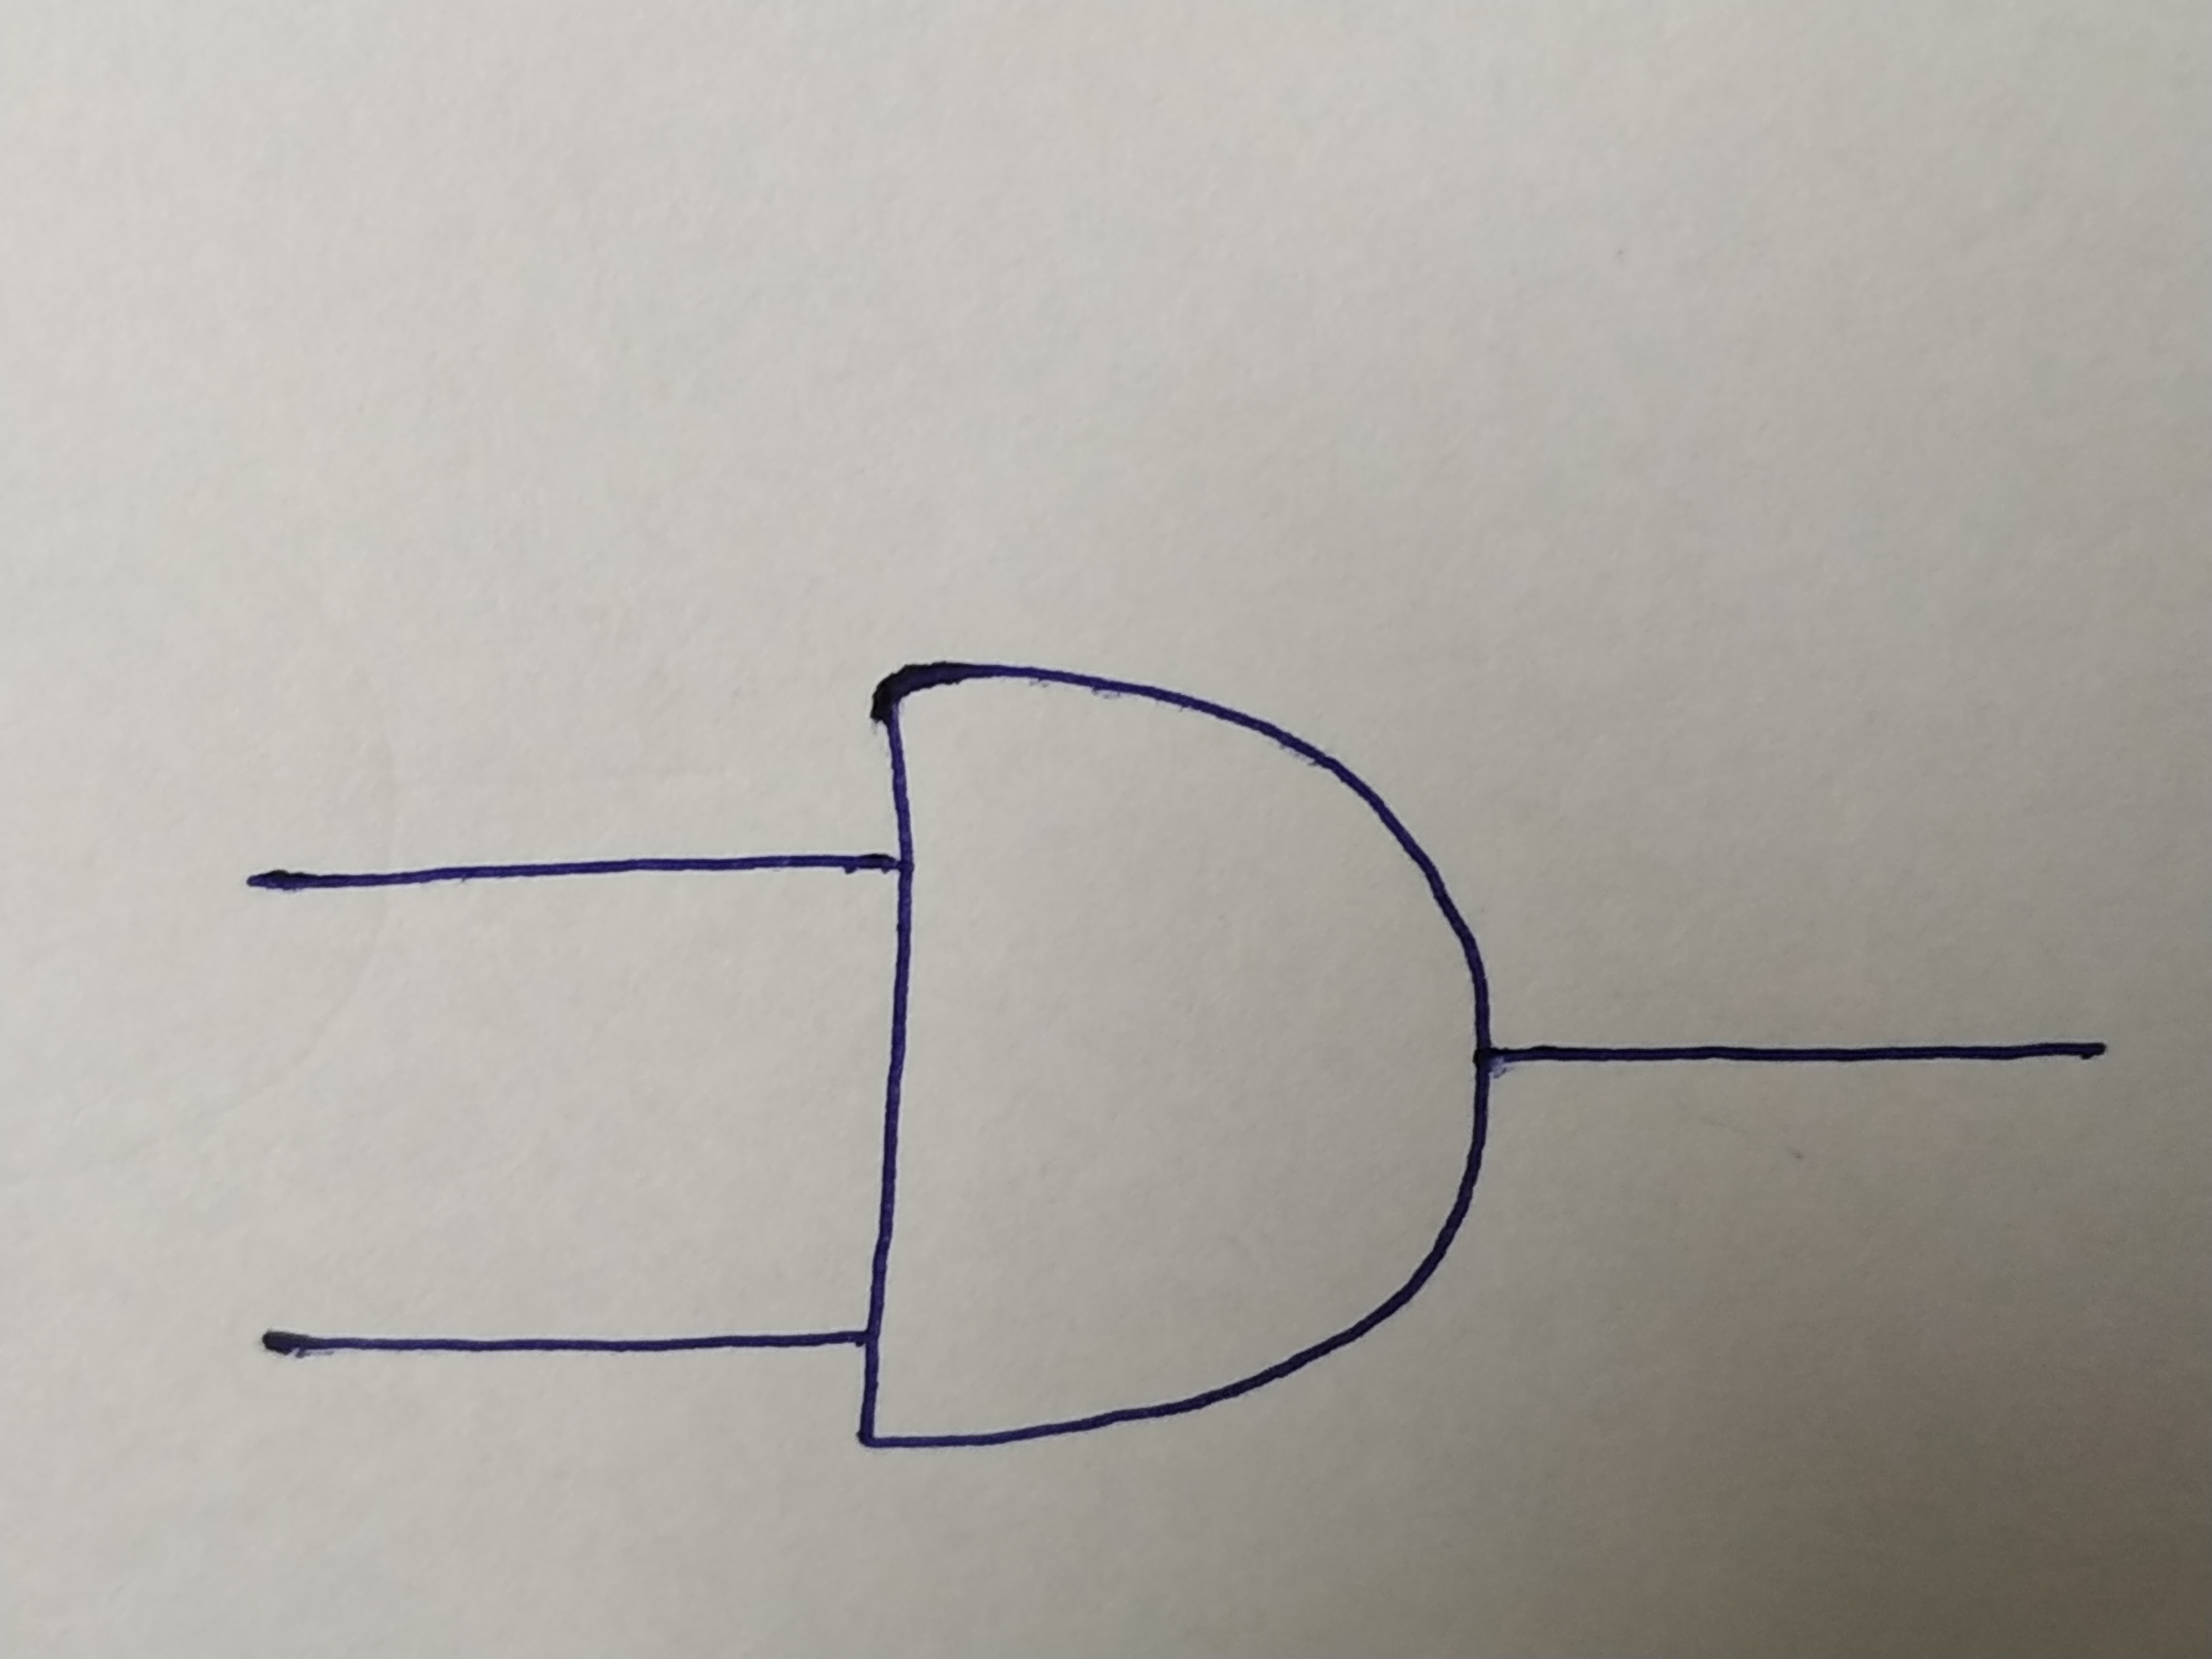and: (869, 671, 1494, 1446)
